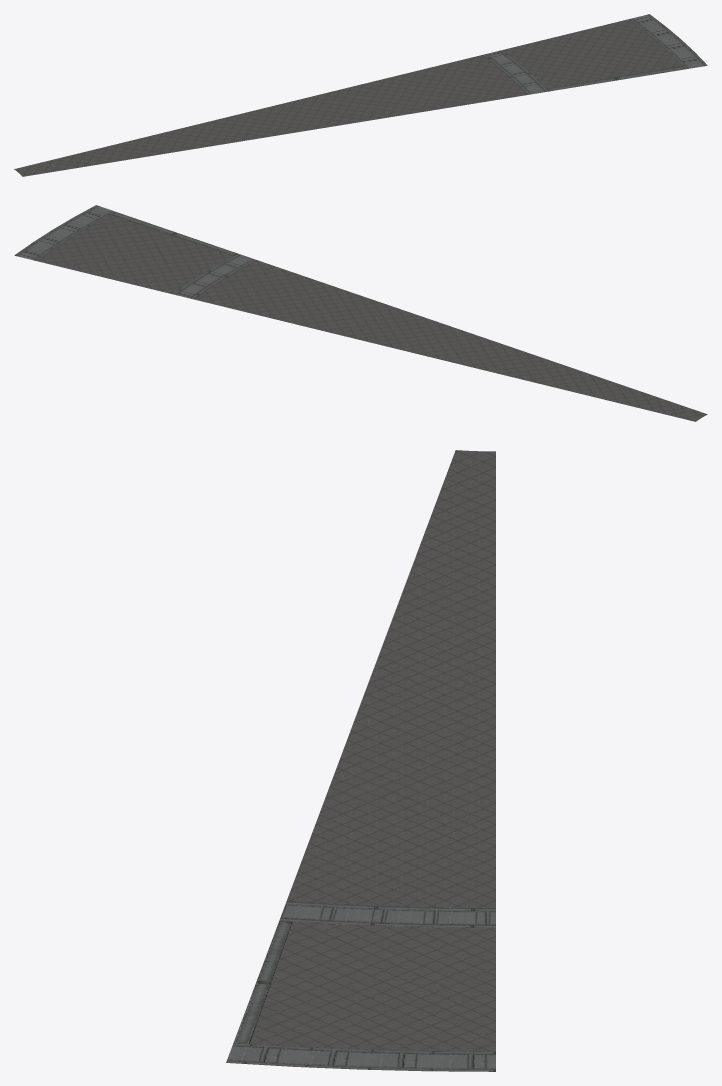
Rendered from Club_DanceFloor_02.FBX.
3 views of the same model, one above another, from view 1: azimuth 30°, elevation 25°; view 2: azimuth 150°, elevation 25°; view 3: azimuth 270°, elevation 25° (orthographic). The views are drawn at different scales.
Parts seen in each view (by area): view 1: Club_DanceFloor_02; view 2: Club_DanceFloor_02; view 3: Club_DanceFloor_02.
Boxes of the visible parts, x1,y1,x2,y2 form: Club_DanceFloor_02: (14,14,707,176); Club_DanceFloor_02: (14,205,707,421); Club_DanceFloor_02: (226,450,495,1071).
Size of the model in its own units: 40.63 by 2.11e-15 by 7.46.
